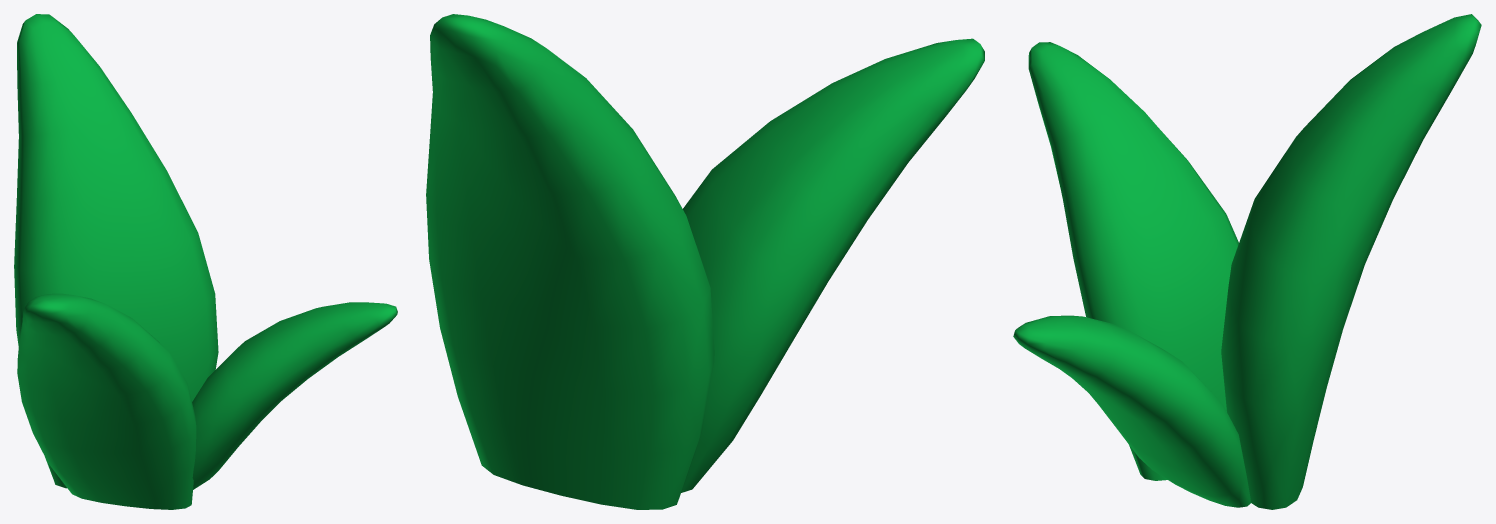
The model's file is City_2_Grass_3.glb.
The picture shows the model from 3 angles, left to right: view 1: azimuth 30°, elevation 25°; view 2: azimuth 150°, elevation 25°; view 3: azimuth 270°, elevation 25°; orthographic projection. The views are drawn at different scales.
Parts seen in each view (by area): view 1: City_2_Grass_3; view 2: City_2_Grass_3; view 3: City_2_Grass_3.
Boxes of the visible parts, left/top/right/bottom form: City_2_Grass_3: left=14, top=14, right=397, bottom=509; City_2_Grass_3: left=426, top=14, right=984, bottom=509; City_2_Grass_3: left=1013, top=14, right=1481, bottom=509.
Bounding box in the file's own units: 0.666 × 0.6937 × 0.6493.
Materials: 1 (1 with a texture image).
